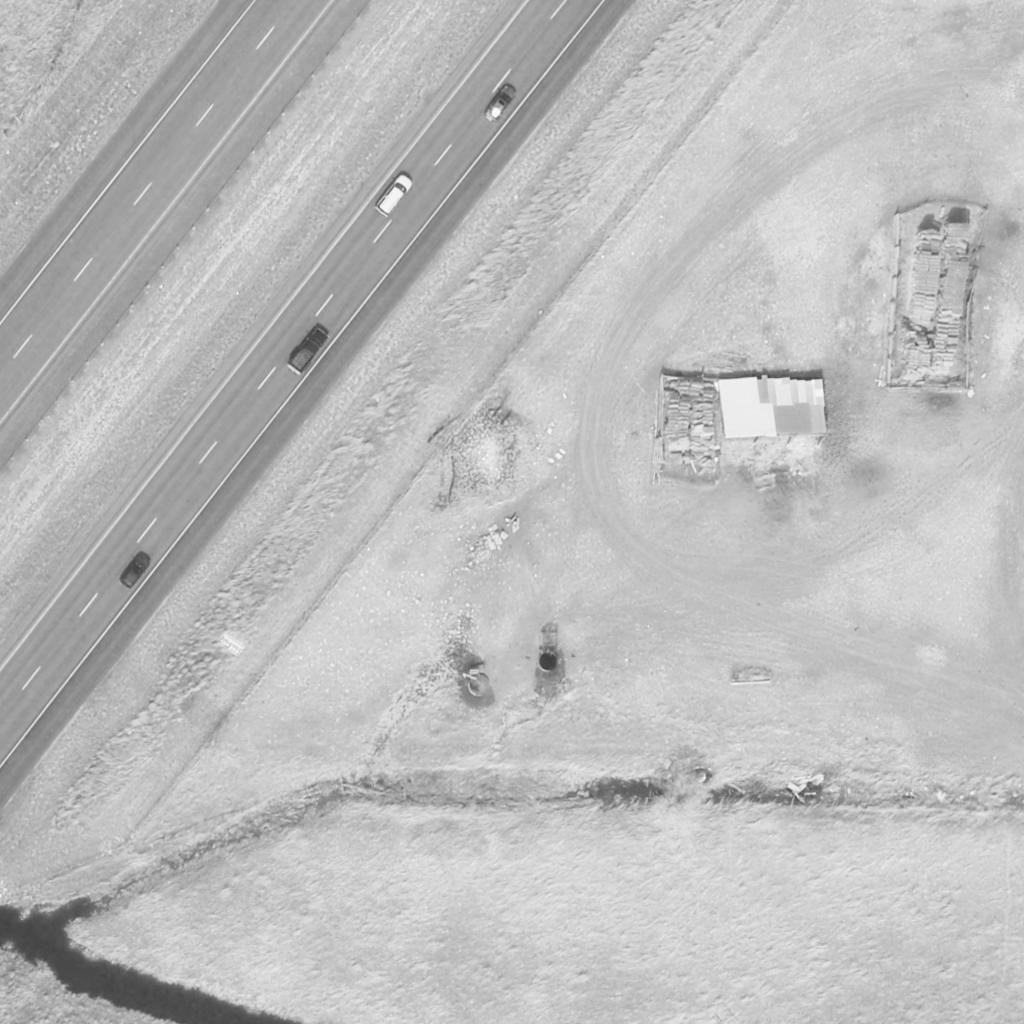vehicle: (286, 326, 332, 376), (374, 170, 416, 220), (116, 551, 154, 591), (483, 84, 517, 124)
